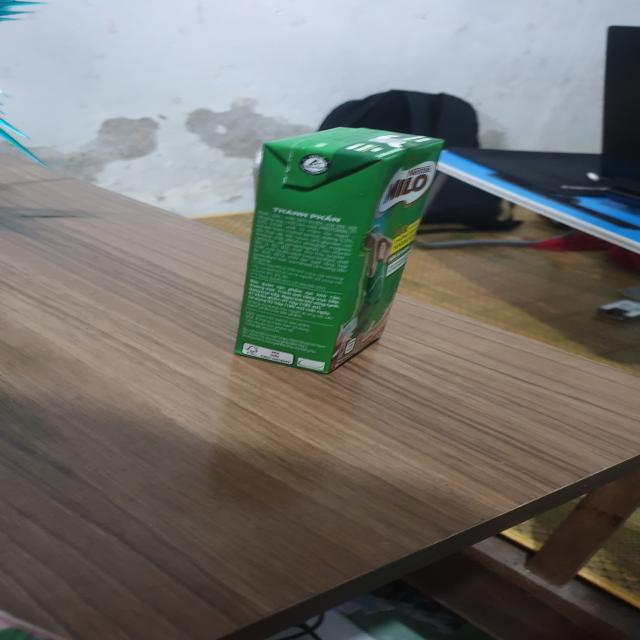Milo: (238, 125, 444, 376)
